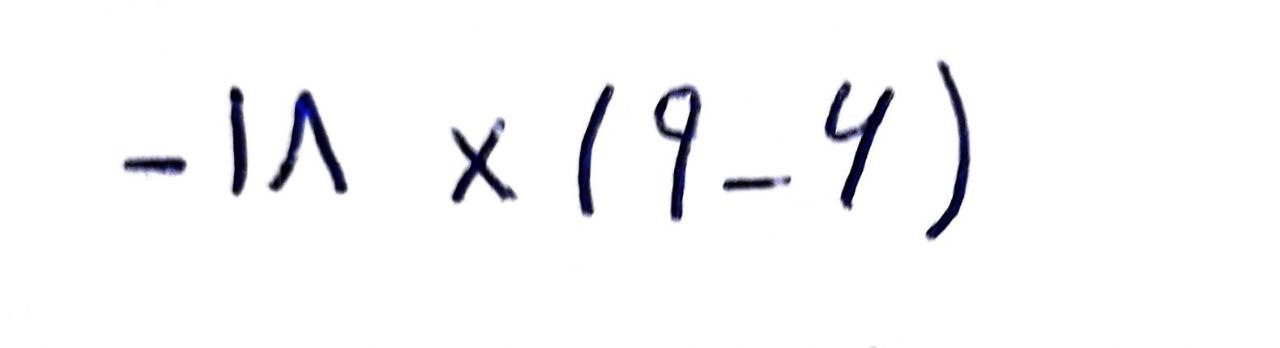character: (822, 80, 896, 212), (266, 90, 349, 194), (926, 60, 973, 242), (653, 82, 702, 219), (450, 119, 520, 204), (575, 84, 617, 216), (227, 84, 249, 197), (120, 155, 189, 175), (722, 174, 794, 190)
